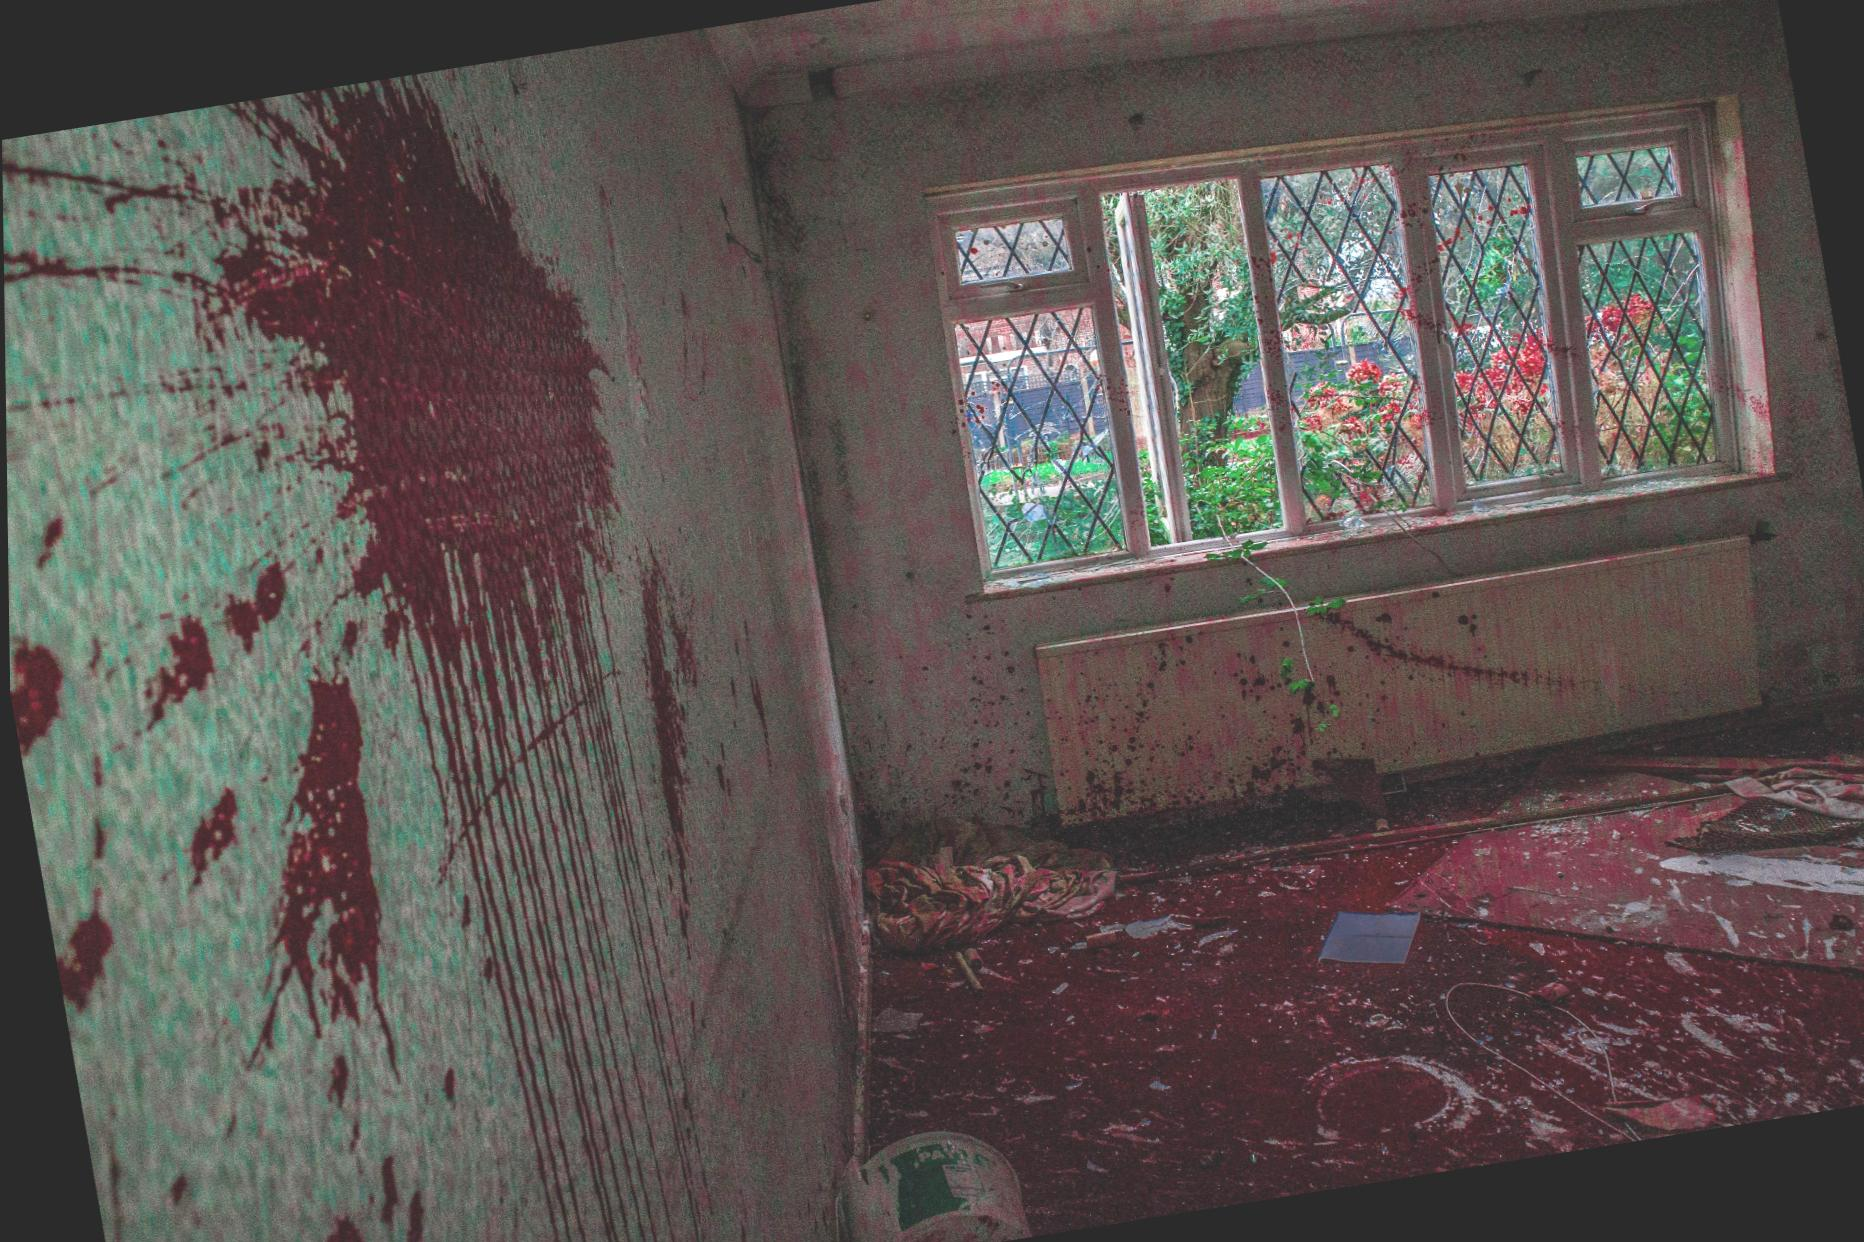Fire: (1, 64, 782, 1242)
